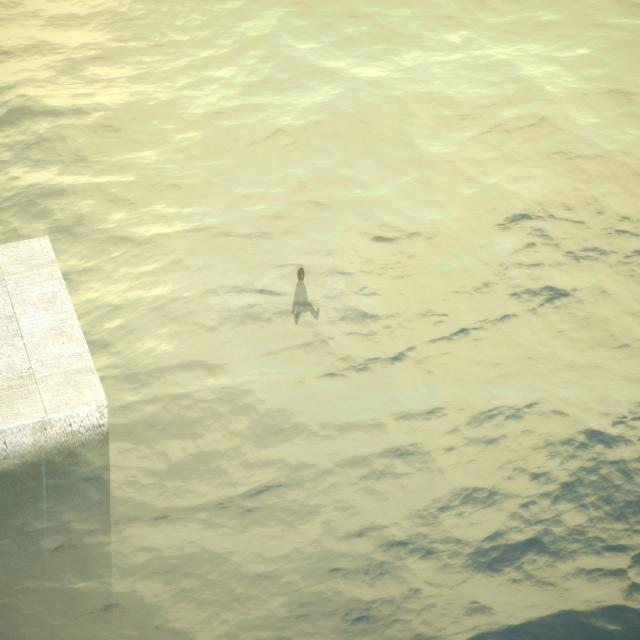Human: (290, 264, 322, 324)
